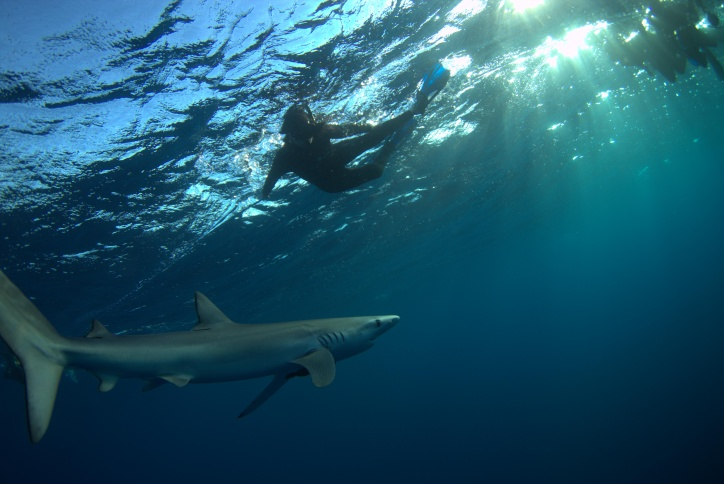Azul: (1, 262, 432, 450)
